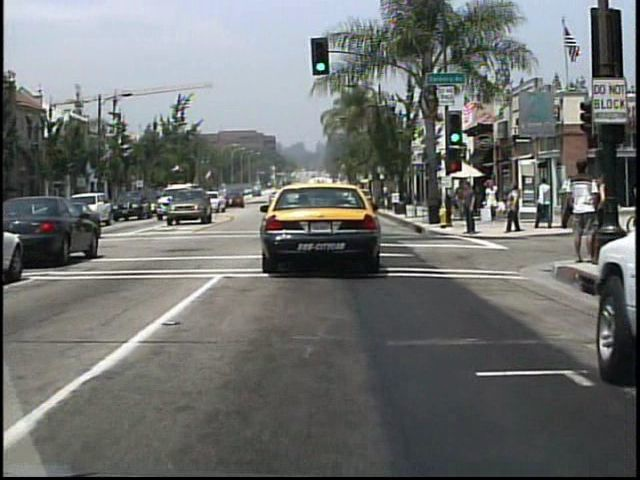person: (566, 155, 600, 262), (461, 182, 479, 238), (537, 174, 554, 229), (508, 182, 526, 232), (454, 179, 473, 226), (486, 179, 503, 225)
